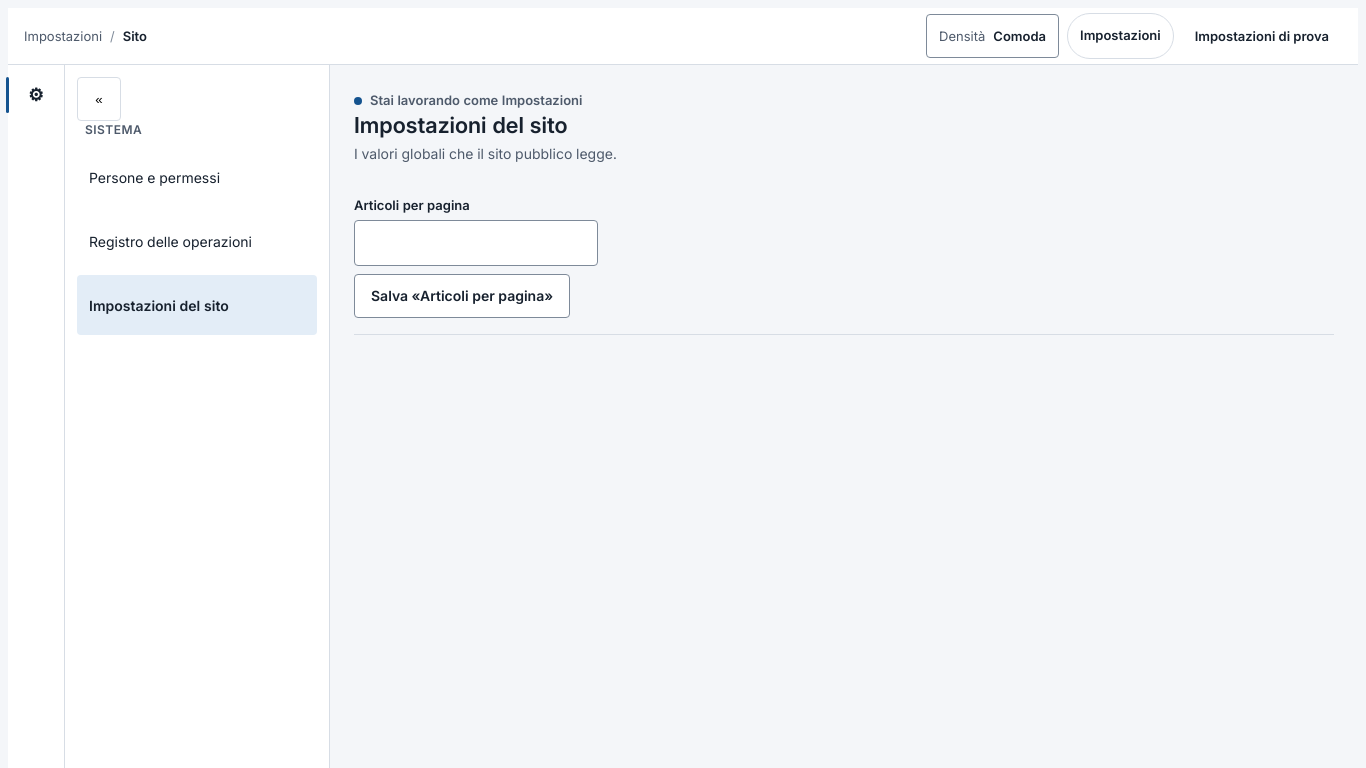
it: impostazione numerica rimasta nulla › si compila dal campo vuoto e, salvata, torna numerica
This screenshot has width=1366, height=768.
Type "10" into the field labelled "Articoli per pagina". click: [476, 243]
box: [354, 220, 598, 266]
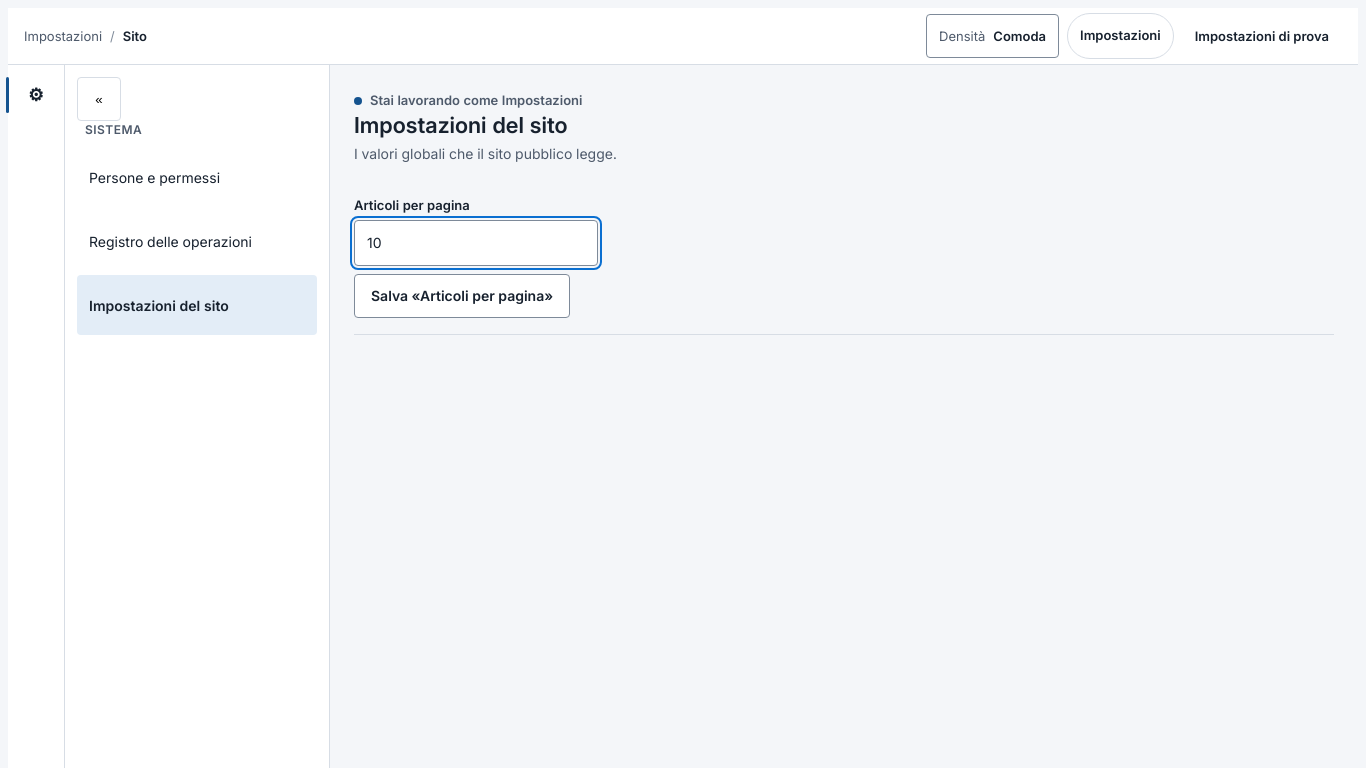
Click the button "Salva «Articoli per pagina»". click: [462, 296]
box: [354, 274, 570, 318]
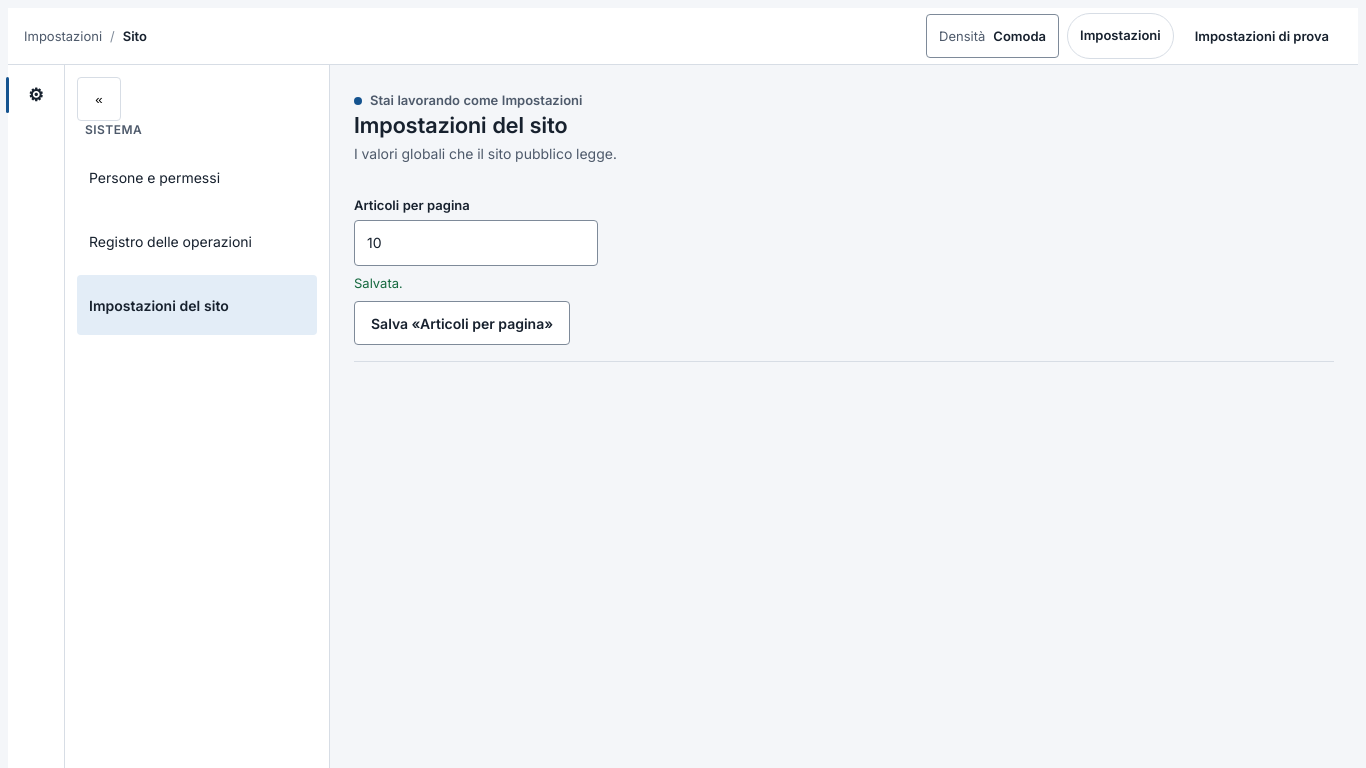
Expected: the text "Salvata." is shown, [354, 274, 402, 293]
